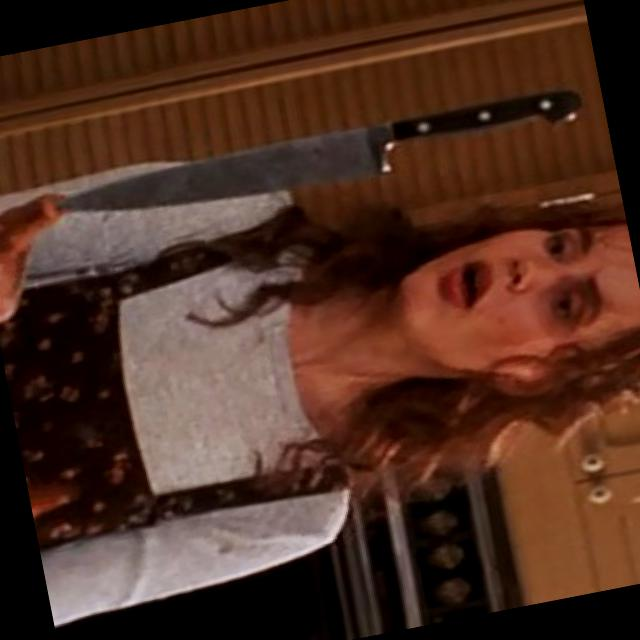knife: (42, 64, 594, 240)
